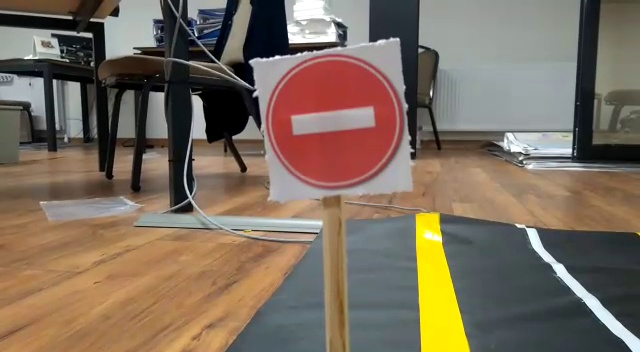girisi_olmayan_yol: (263, 51, 406, 198)
